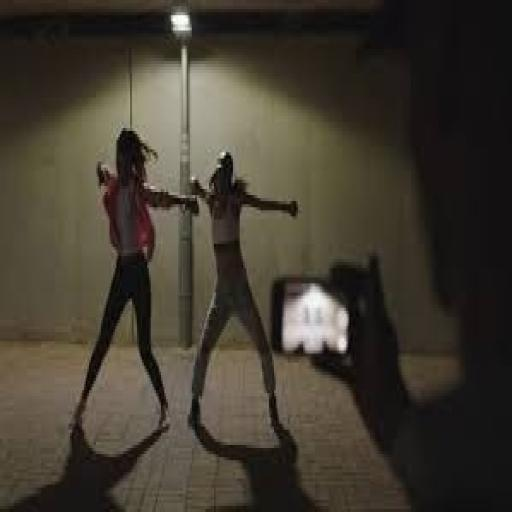dancing: (67, 125, 200, 439), (185, 146, 301, 454)
